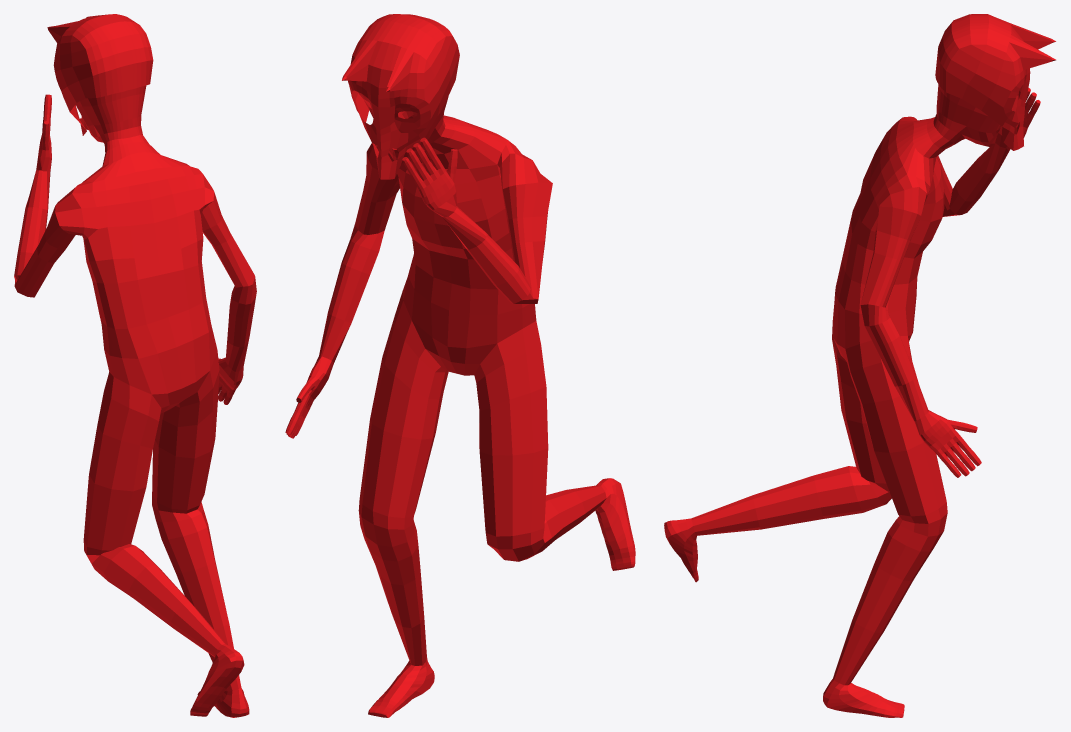
File: correrE_000103.obj
The picture shows the model from 3 angles, left to right: view 1: azimuth 30°, elevation 25°; view 2: azimuth 150°, elevation 25°; view 3: azimuth 270°, elevation 25°; orthographic projection. The views are drawn at different scales.
Visible parts, largest first — view 1: Plane.002_Plane.001; view 2: Plane.002_Plane.001; view 3: Plane.002_Plane.001.
Part boxes in pixels (x1=…): Plane.002_Plane.001: x1=14, y1=14, x2=256, y2=717; Plane.002_Plane.001: x1=285, y1=14, x2=635, y2=717; Plane.002_Plane.001: x1=664, y1=14, x2=1055, y2=717.
Size of the model in its own units: 2.26 by 6.61 by 3.56.
